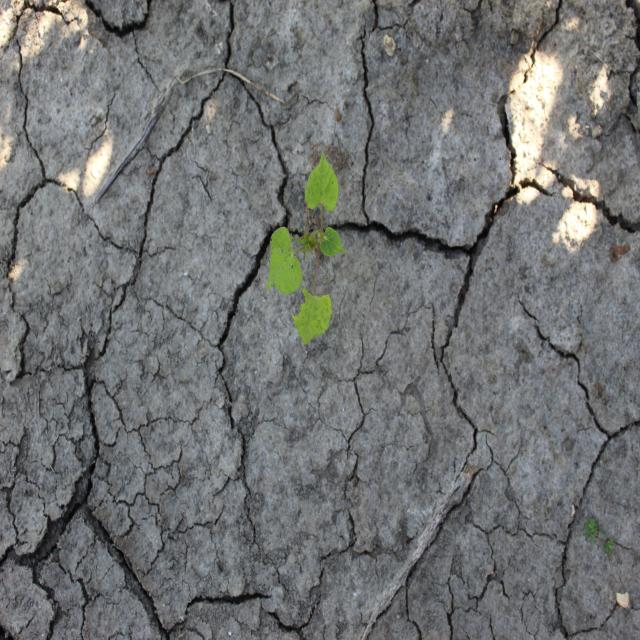MorningGlory: (262, 148, 348, 347)
